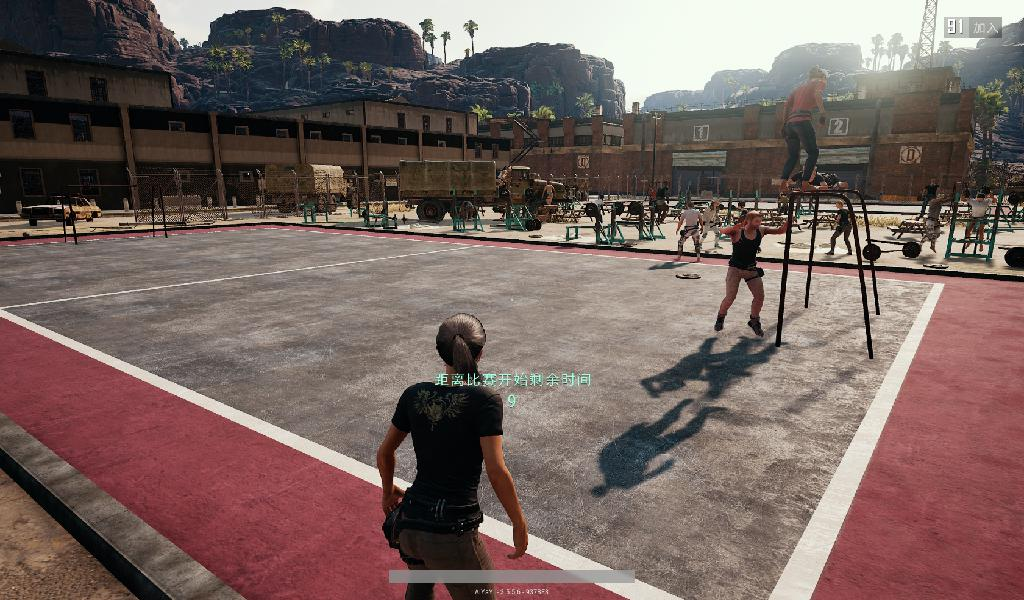Target Person: (377, 313, 530, 600), (715, 210, 790, 336), (780, 65, 825, 196), (964, 189, 993, 254), (924, 190, 950, 261), (674, 200, 702, 264), (829, 200, 853, 261), (540, 175, 556, 213)
